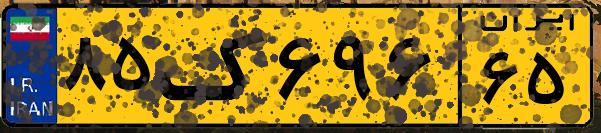5: (525, 38, 570, 115), (110, 28, 158, 98)
6: (270, 28, 330, 110), (385, 28, 445, 110), (475, 38, 525, 113)
8: (57, 26, 110, 100)
9: (330, 28, 385, 110)
ک: (158, 12, 270, 120)
